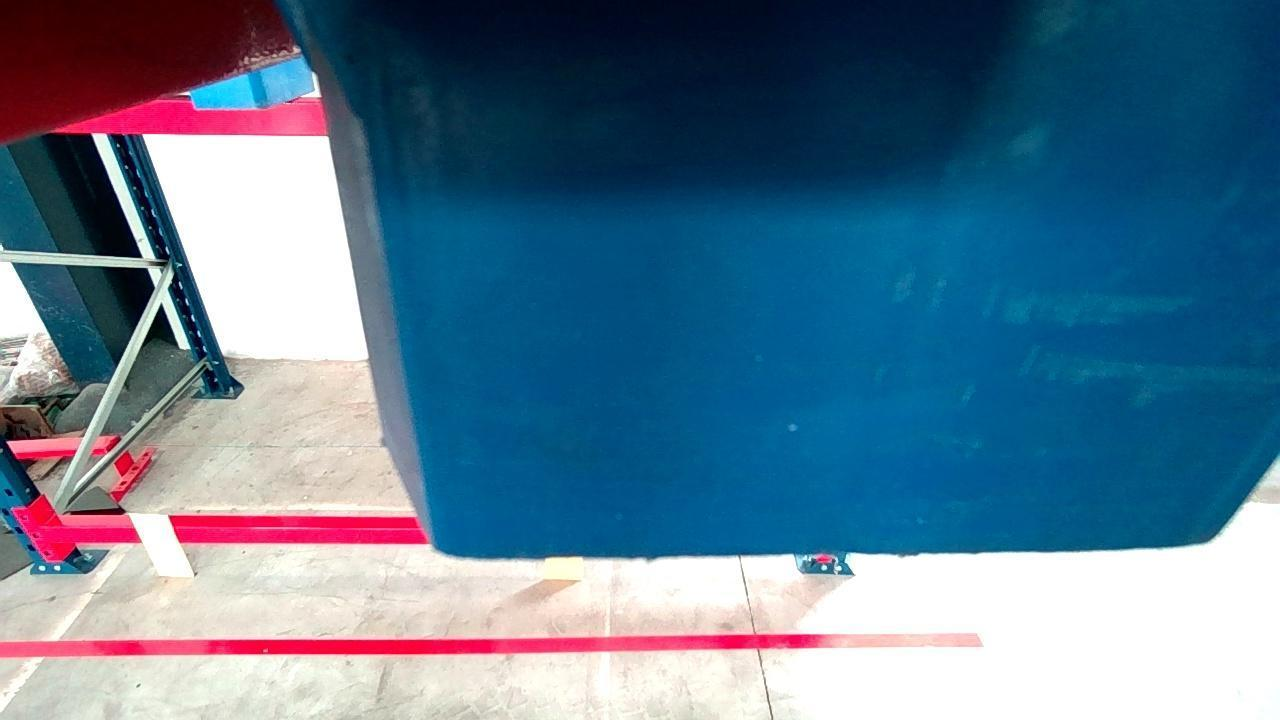h_rack: (50, 100, 328, 134), (36, 526, 433, 546)
orange_strip: (125, 511, 190, 576), (544, 558, 579, 576)
red_line: (1, 628, 978, 658)
